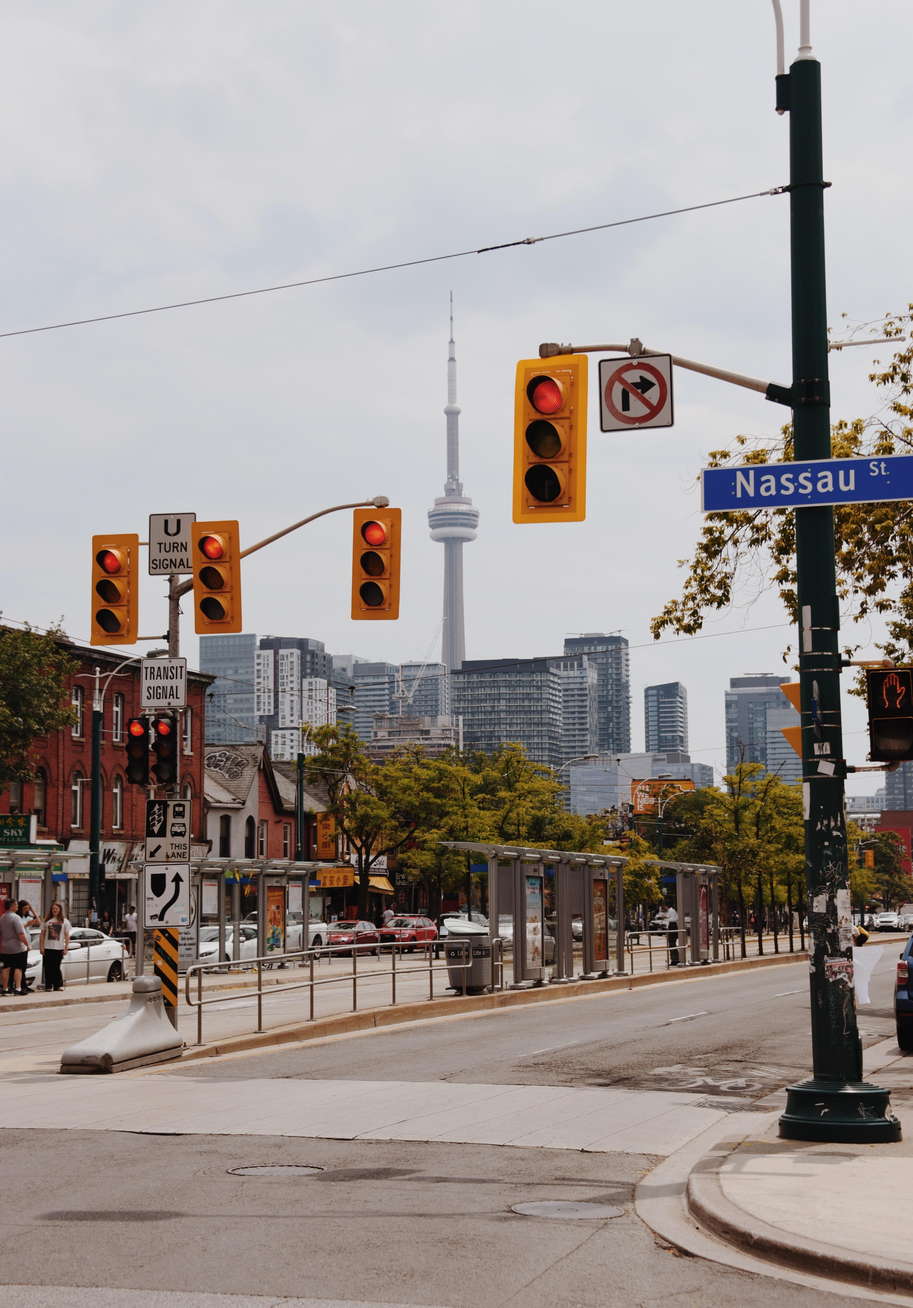red: (500, 342, 588, 531)
